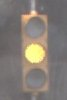Yellow: (14, 6, 52, 100)
